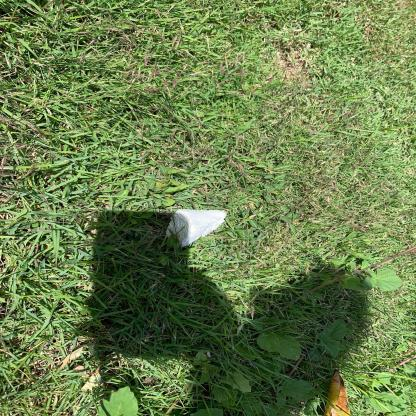trash: (165, 209, 230, 248)
